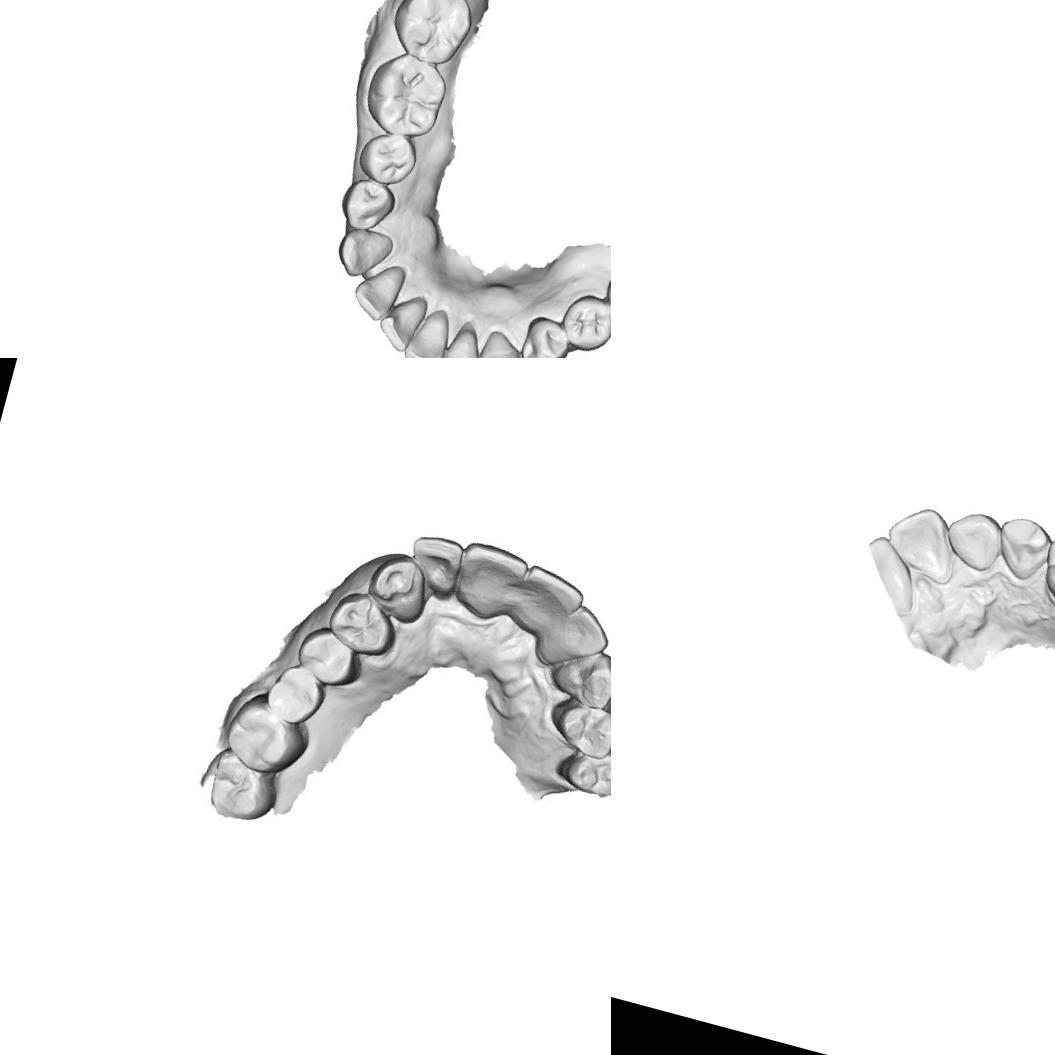canine: (362, 550, 434, 626), (548, 640, 611, 718), (988, 511, 1055, 584), (330, 222, 396, 285), (470, 326, 531, 358)
incisor: (878, 497, 968, 587), (506, 558, 590, 642), (452, 537, 531, 618), (539, 593, 611, 676), (937, 504, 1009, 576), (404, 525, 468, 598), (346, 254, 408, 326), (372, 286, 431, 356), (400, 301, 456, 358), (433, 315, 491, 358)
molar: (357, 43, 454, 146), (216, 687, 318, 782), (383, 0, 481, 70)
premolar: (320, 584, 404, 661), (288, 622, 365, 692), (258, 658, 330, 732), (544, 691, 611, 762), (353, 126, 422, 190), (334, 173, 400, 238), (554, 288, 611, 358), (553, 742, 611, 808), (511, 310, 575, 358), (1033, 527, 1055, 608)
